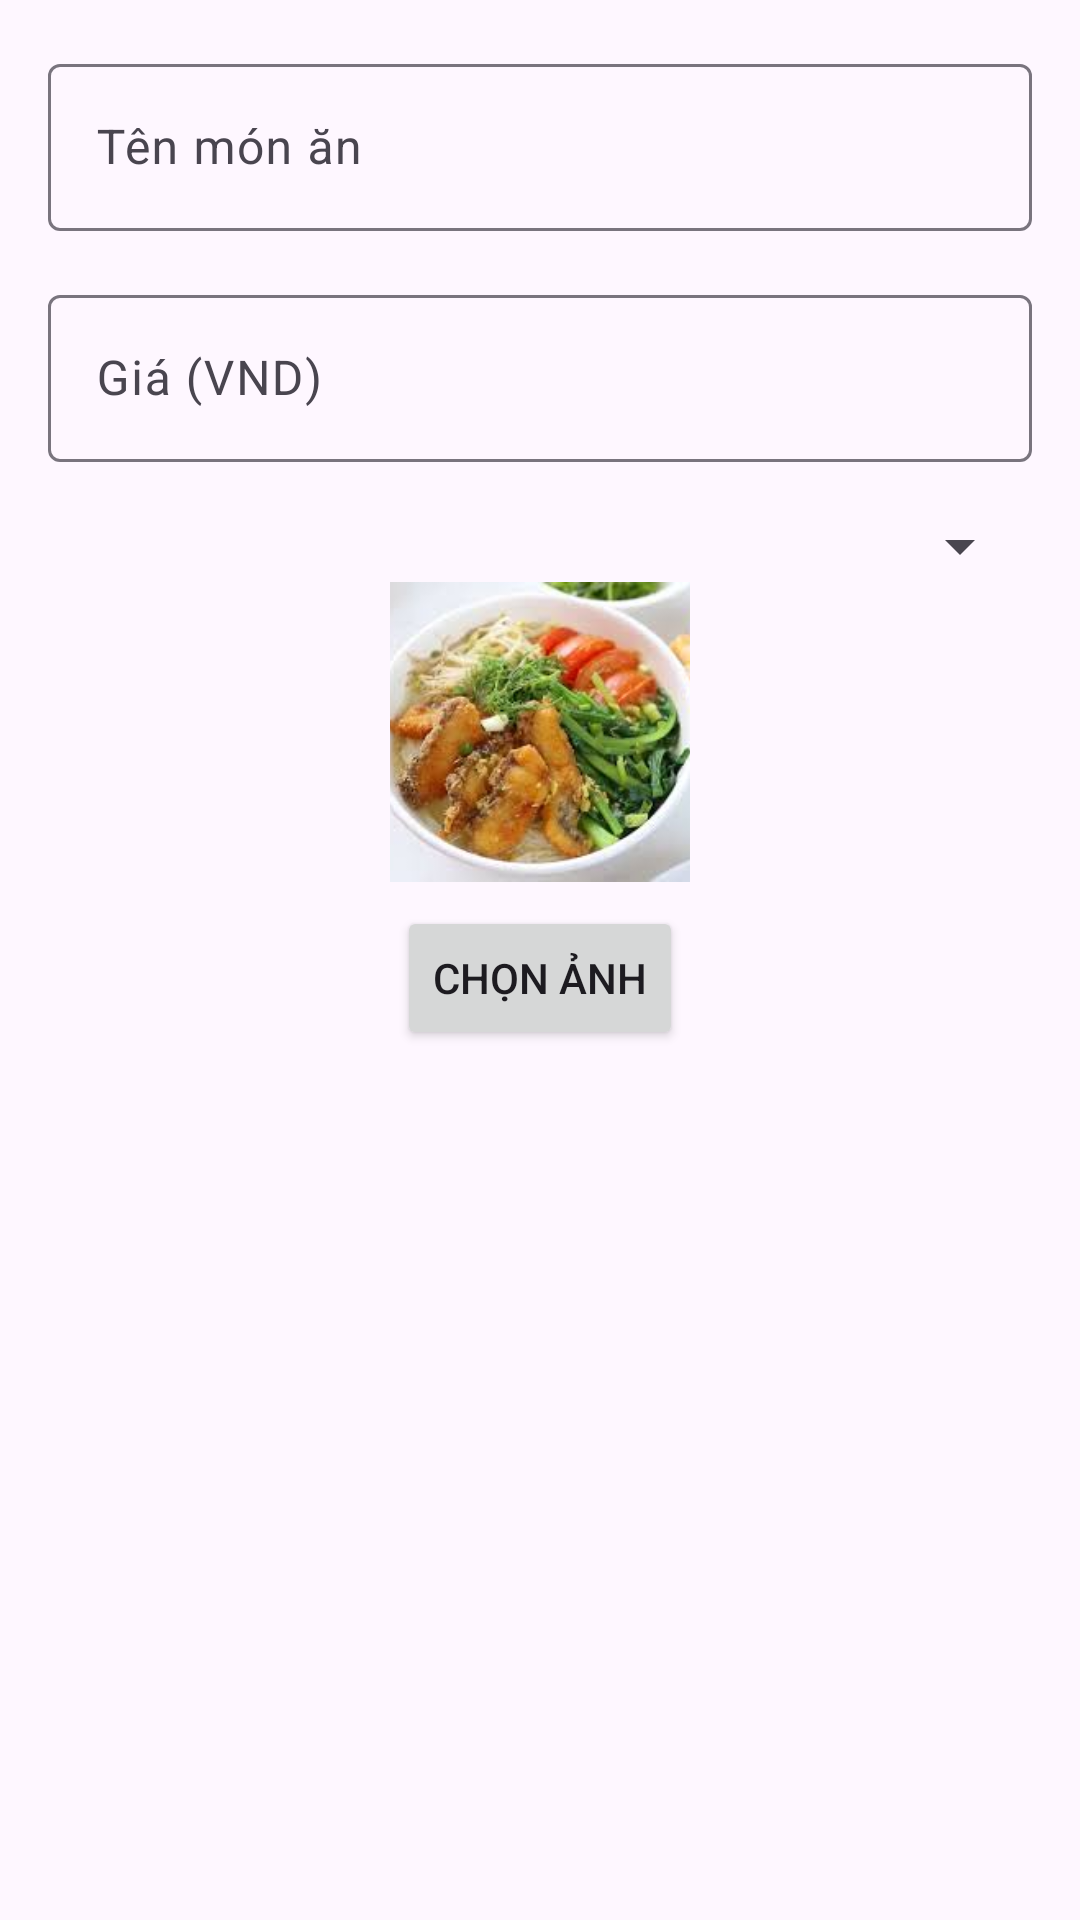

Icon bounding boxes for this 1080px x 1920px phone screenshot, format (x1, y1, x2, y2):
bun ca: (390, 582, 690, 882)
